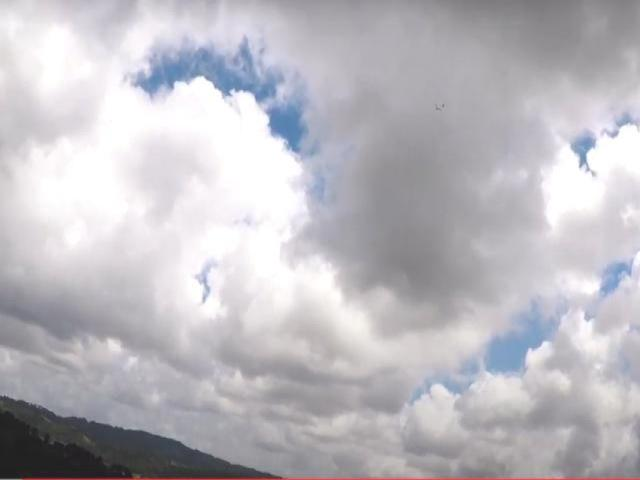iha: (432, 98, 447, 113)
